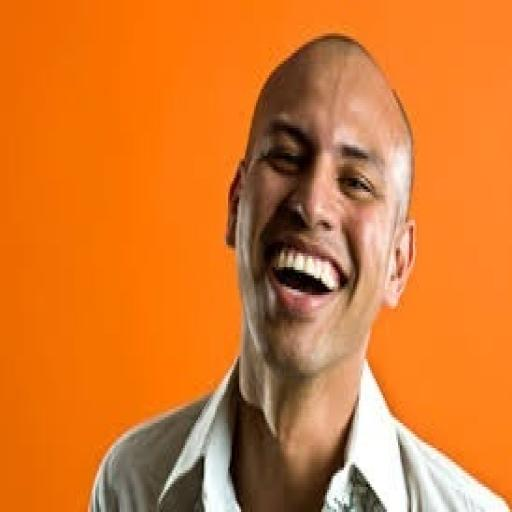laughing: (79, 25, 510, 509)
